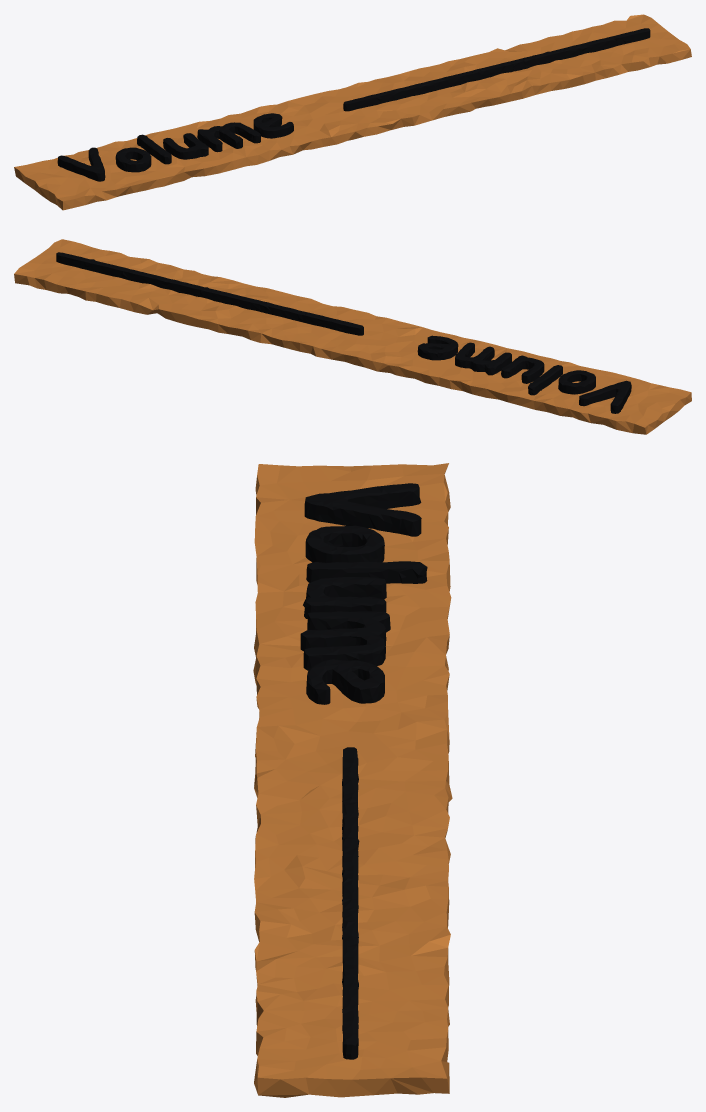
The model's file is Volume.fbx.
The picture shows the model from 3 angles, top to bottom: view 1: azimuth 30°, elevation 25°; view 2: azimuth 150°, elevation 25°; view 3: azimuth 270°, elevation 25°; orthographic projection. The views are drawn at different scales.
Visible parts, largest first — view 1: Куб.014; view 2: Куб.014; view 3: Куб.014.
Part boxes in pixels (x1=…): Куб.014: x1=14, y1=14, x2=691, y2=210; Куб.014: x1=14, y1=239, x2=691, y2=434; Куб.014: x1=253, y1=463, x2=452, y2=1097.
Size of the model in its own units: 686 by 19.47 by 93.67.
